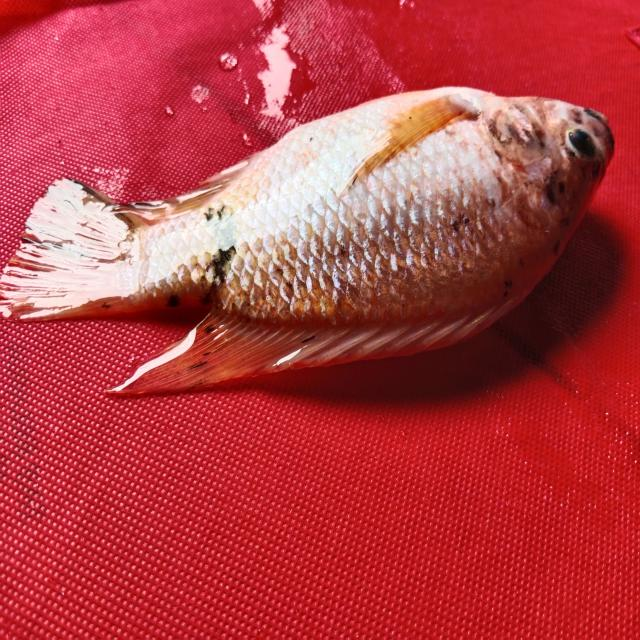ikan: (9, 66, 629, 413)
